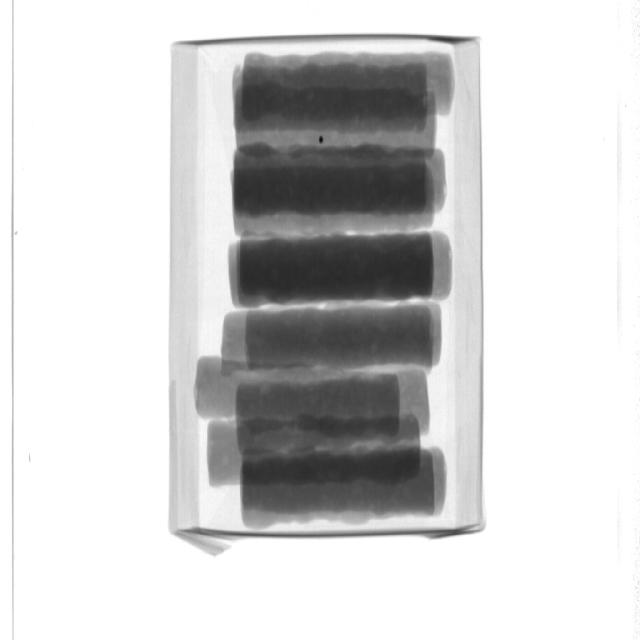ym: (320, 137, 326, 145)
